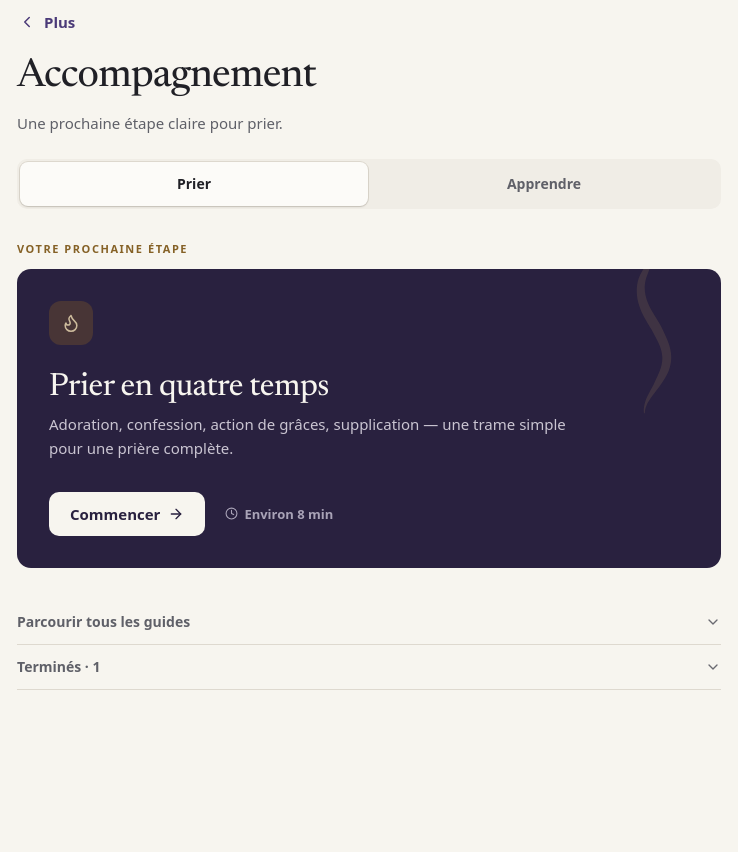
Test: GrowTab — one recommended next step › completed guides move into a collapsed History section
The image size is (738, 852).
Expected: the text "Un sacerdoce royal" is not shown
Click the button "Terminés · 1" at {"x": 49, "y": 667}, box left=17, top=645, right=721, bottom=689
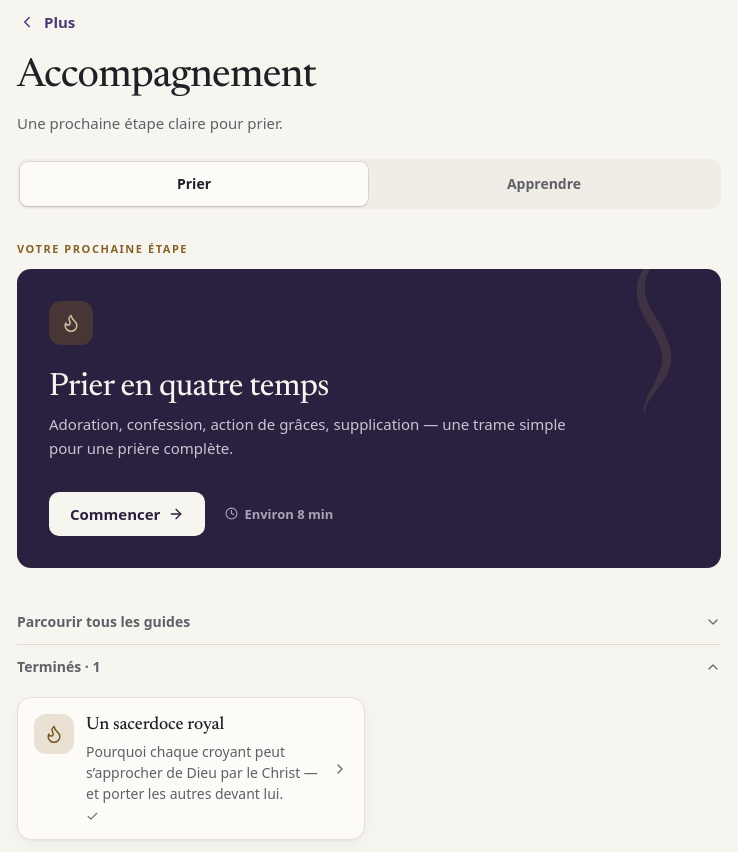
Expected: the text "Prier en quatre temps" is shown, left=49, top=369, right=329, bottom=405
Expected: the text "Un sacerdoce royal" is shown, left=86, top=716, right=224, bottom=734
